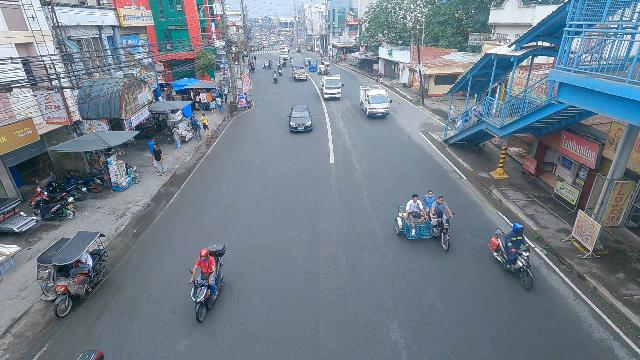car: (287, 105, 314, 133)
jeepney: (291, 62, 307, 82)
motorcycle: (489, 225, 539, 291), (190, 242, 229, 324), (272, 72, 278, 84), (277, 66, 283, 76), (320, 56, 325, 67), (290, 56, 294, 63)
truck: (358, 85, 391, 120), (319, 74, 344, 100), (278, 45, 290, 58)
